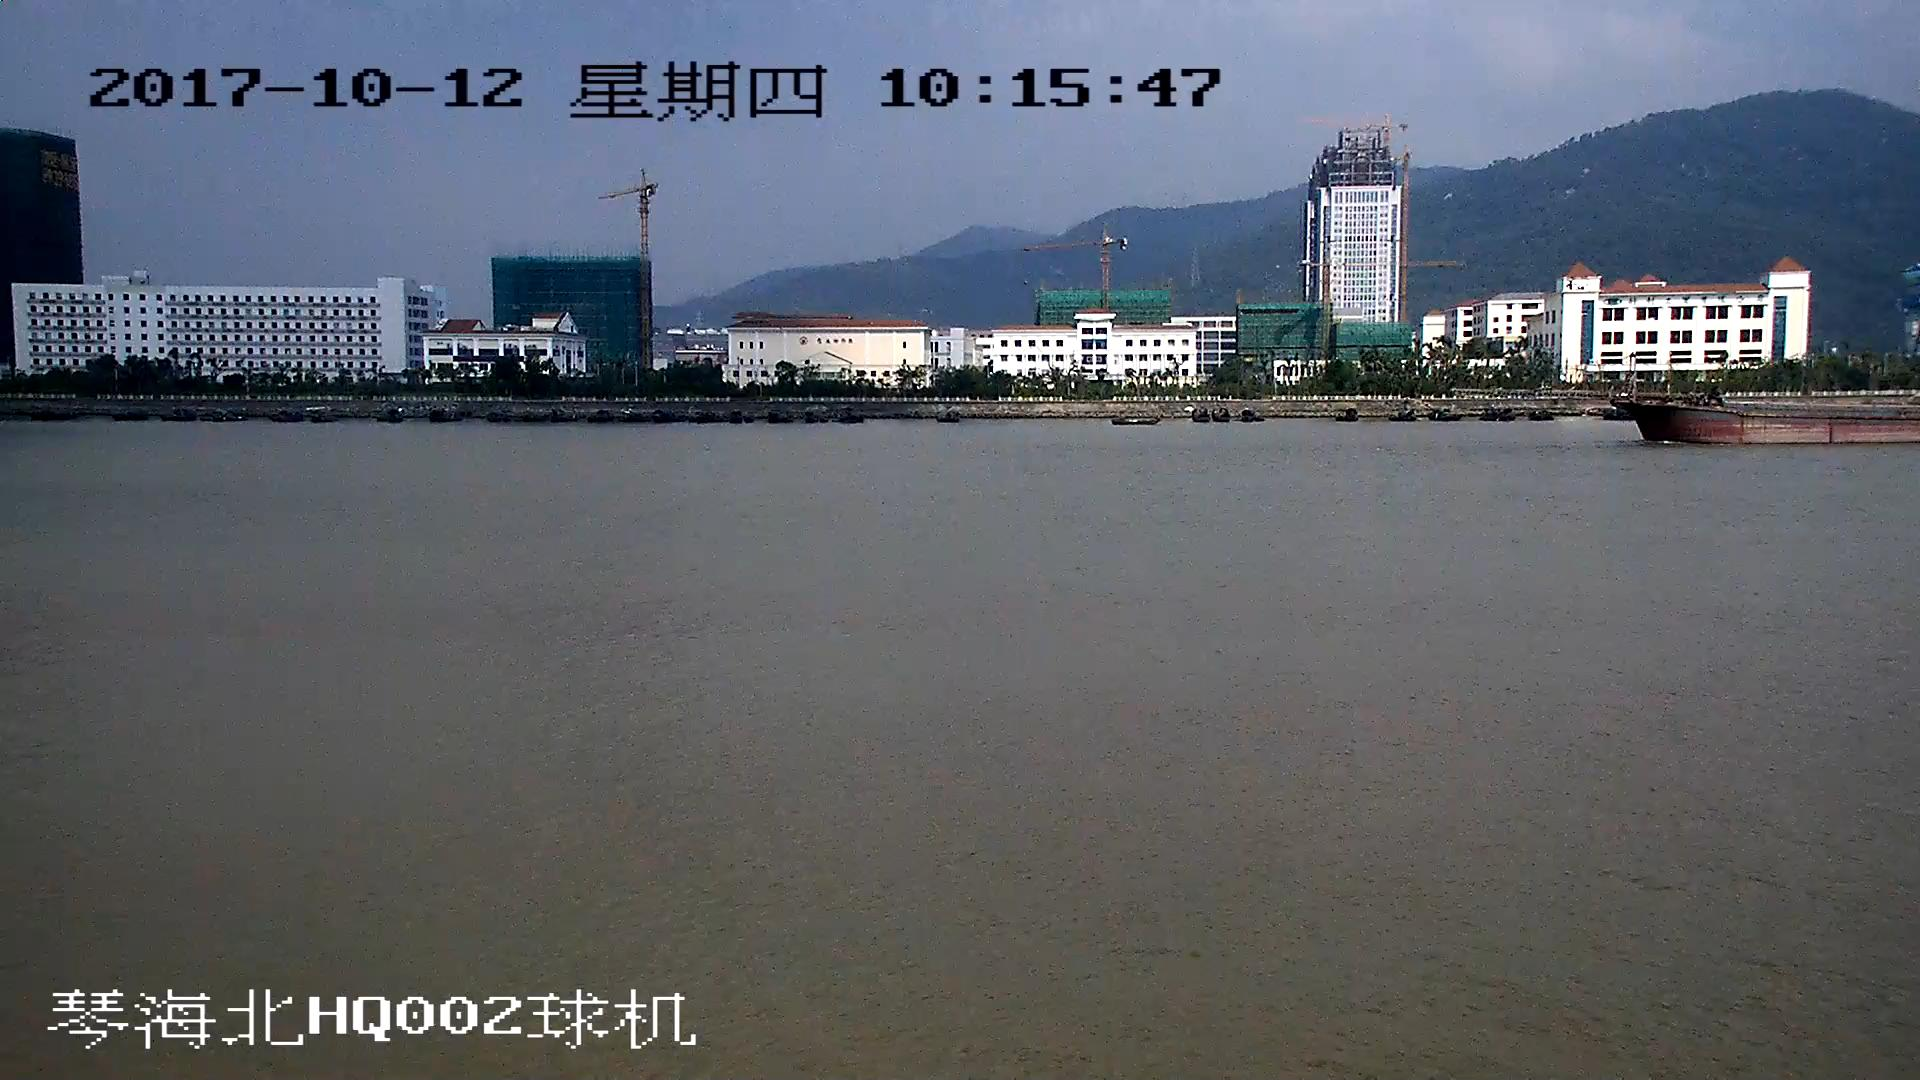bulk cargo carrier: (1614, 394, 1920, 442)
